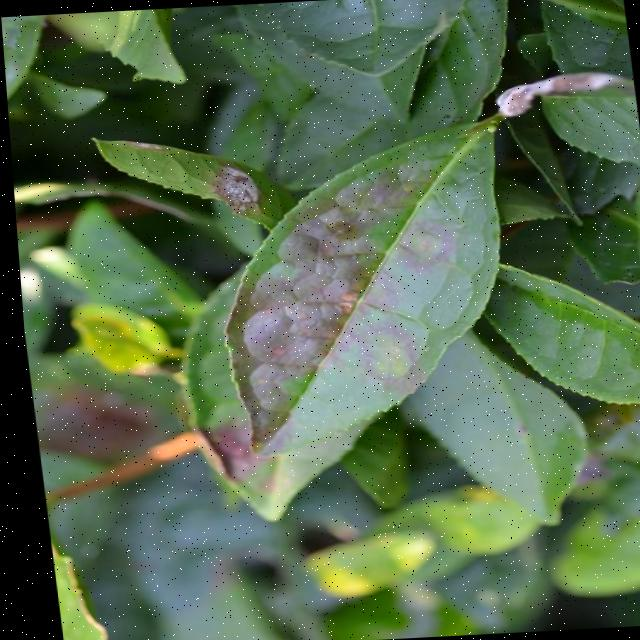Tea exobasidium blight: (206, 188, 450, 456), (182, 414, 252, 490), (196, 162, 264, 220), (119, 128, 172, 166)
